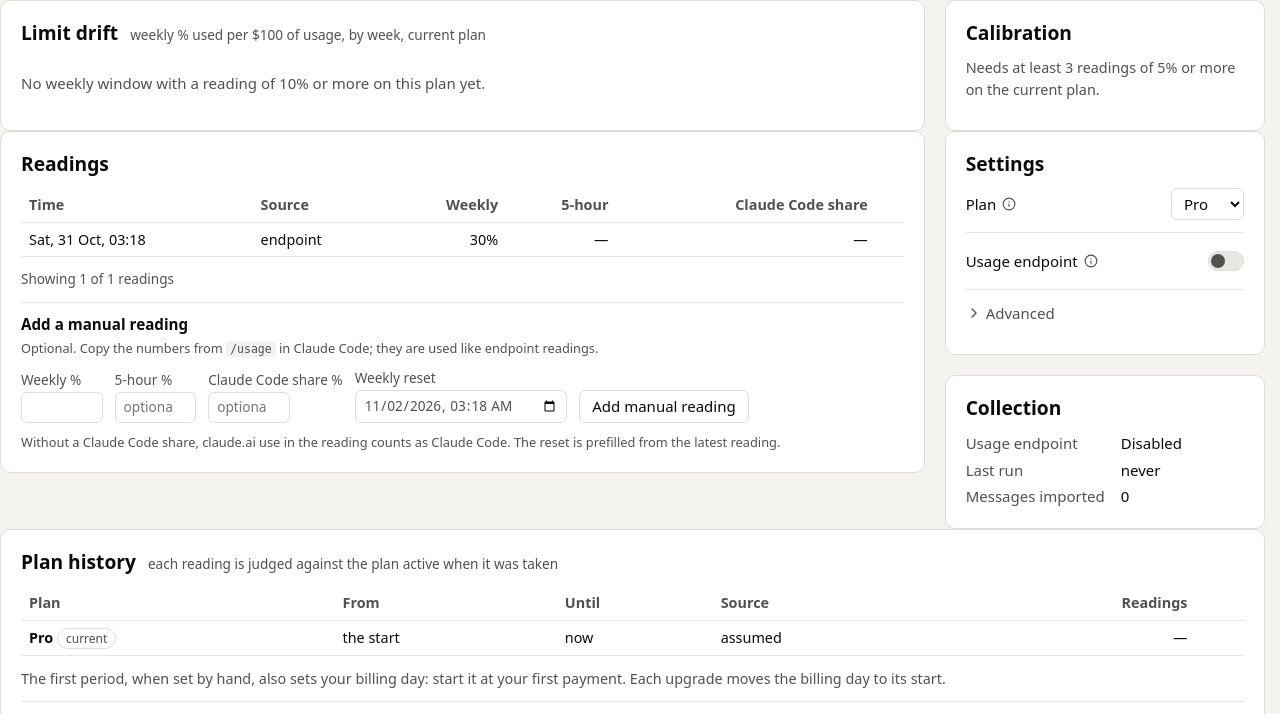
calibration tab › settings › has nothing to save when only the hidden check interval was edited
The image size is (1280, 714).
Click the switch labelled "Usage endpoint": (1226, 261) [1208,251,1244,271]
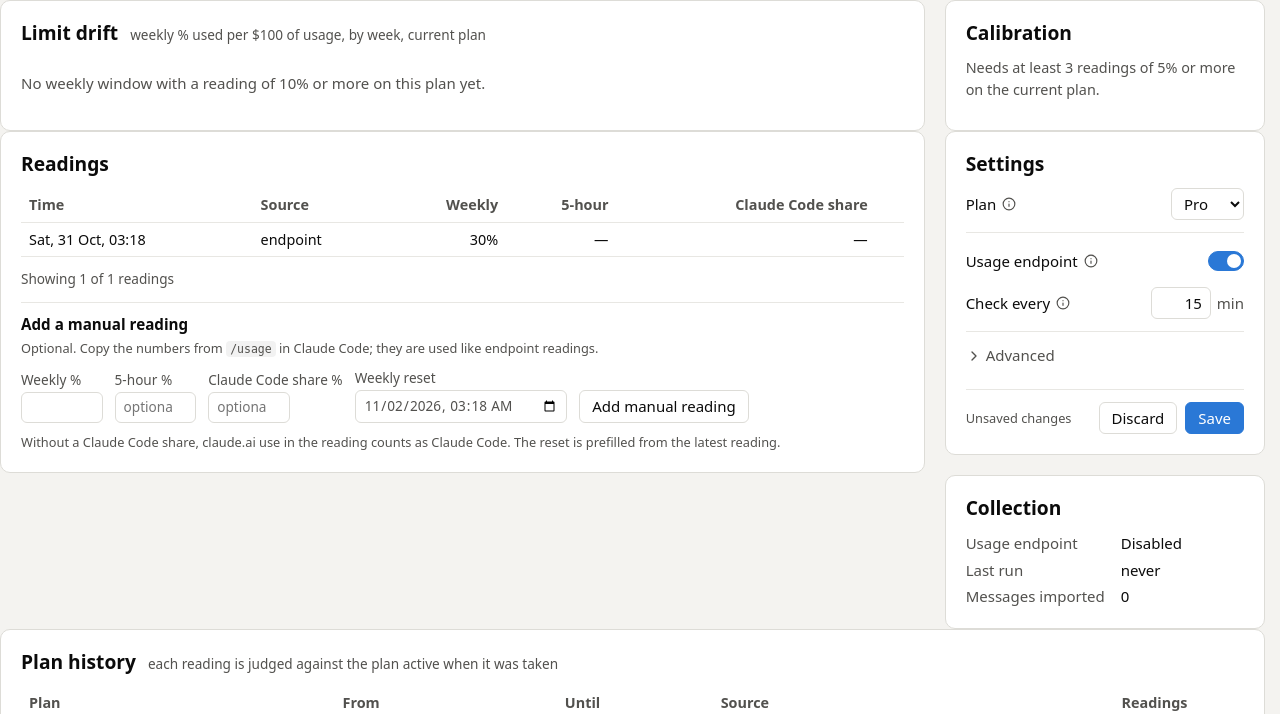
Replace the text in the number field labelled "Check every" with "30": (1181, 303) [1151,287,1211,319]
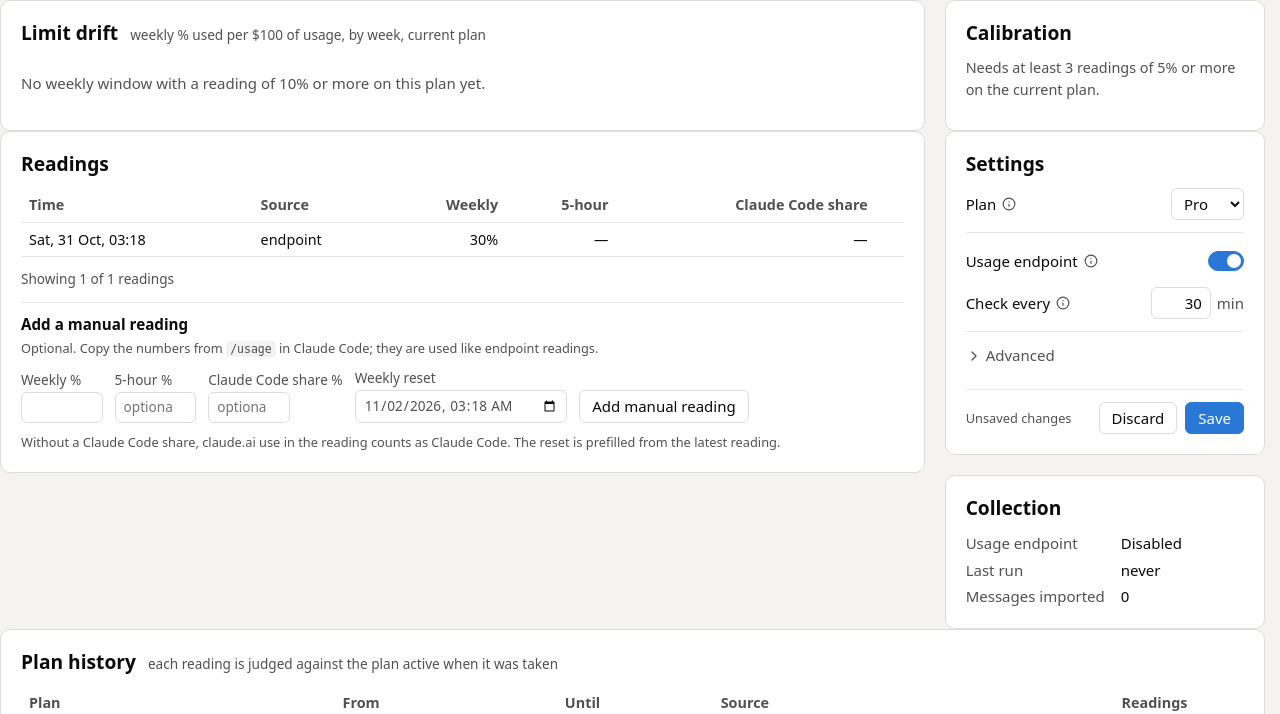
Click the switch labelled "Usage endpoint": (1226, 261) [1208,251,1244,271]
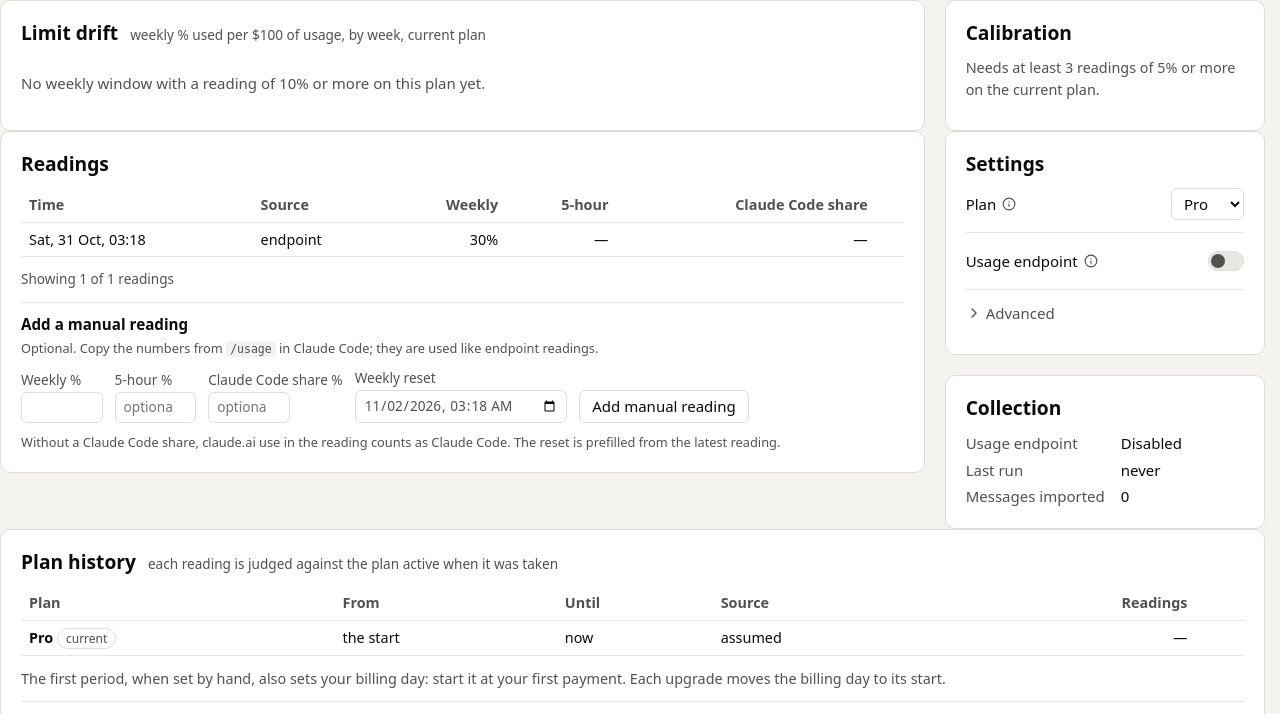
Now the text "Unsaved changes" is gone
Now the text "save" is gone
